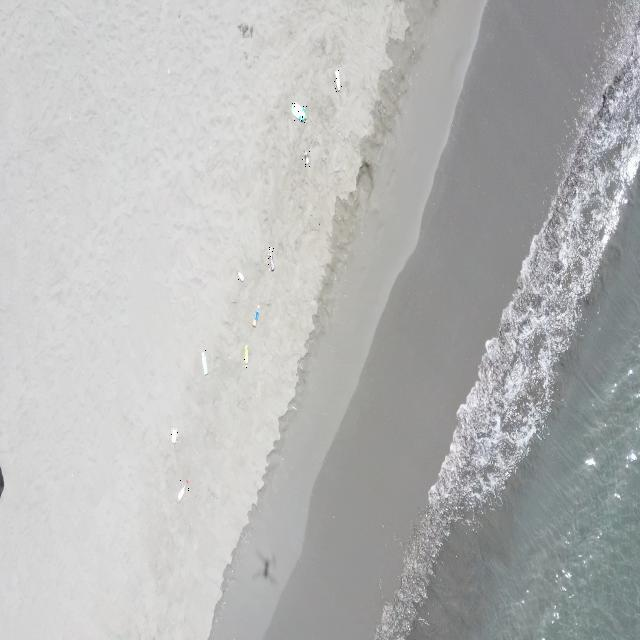plastic-bottle: (291, 100, 307, 122), (177, 478, 189, 503), (200, 350, 210, 376), (242, 344, 250, 370), (252, 304, 260, 330), (268, 246, 275, 273), (334, 70, 342, 93), (170, 427, 178, 449), (302, 149, 310, 168), (237, 271, 245, 283)
